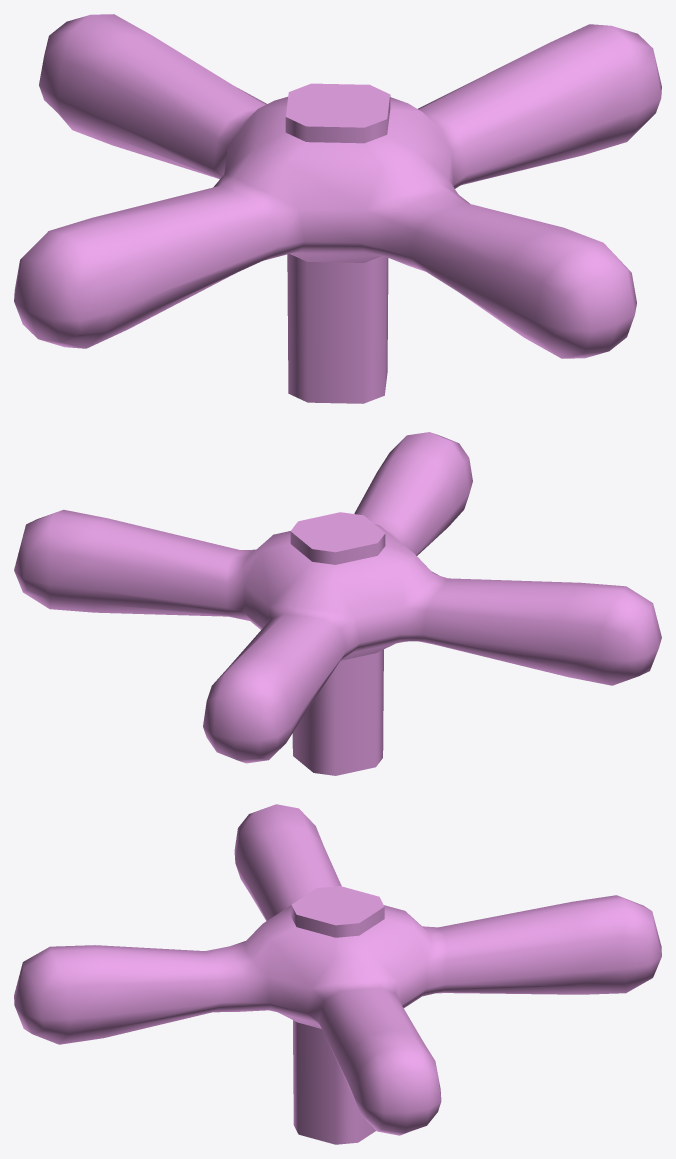
Rendered from Perilla_1.fbx.
3 renders of one model, top to bottom at view 1: azimuth 30°, elevation 25°; view 2: azimuth 150°, elevation 25°; view 3: azimuth 270°, elevation 25°, orthographic. The views are drawn at different scales.
Visible parts, largest first — view 1: Perilla_1; view 2: Perilla_1; view 3: Perilla_1.
Boxes of the visible parts, bbox=[...] form: Perilla_1: bbox=[14, 14, 661, 403]; Perilla_1: bbox=[14, 432, 661, 775]; Perilla_1: bbox=[14, 804, 661, 1144].
Size of the model in its own units: 0.0432 by 0.0162 by 0.0432.
